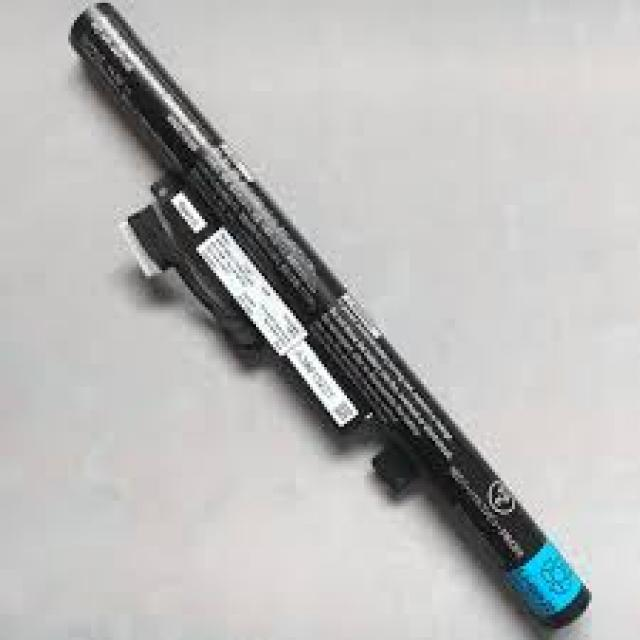non-organic waste: (59, 0, 590, 630)
